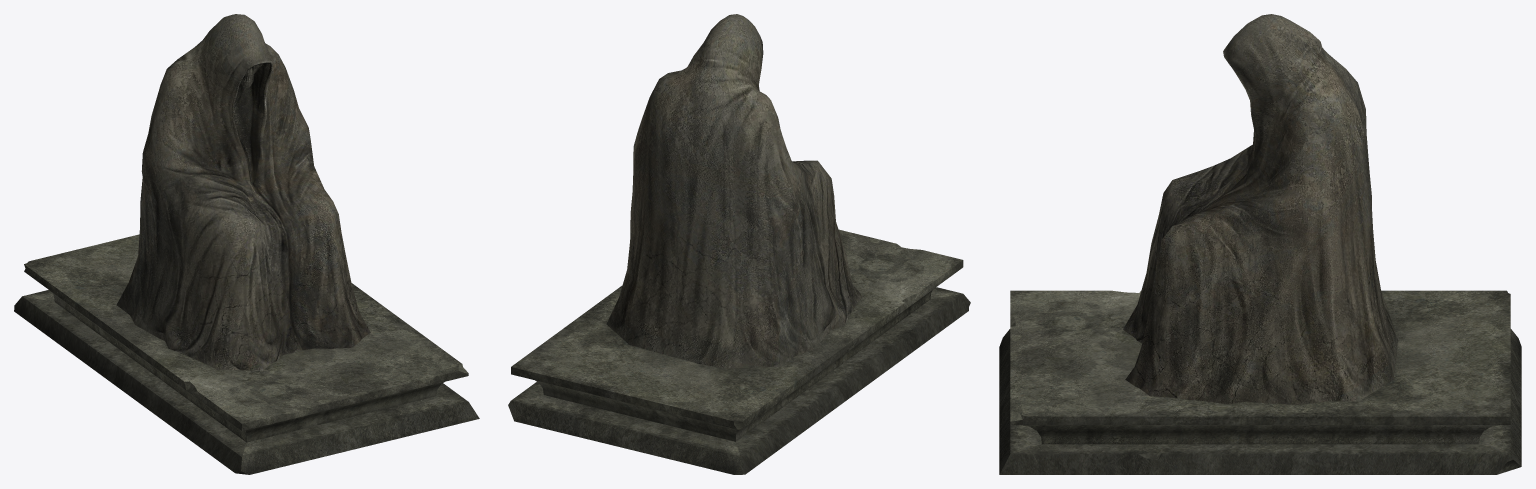
The model's file is Graveyard_Statue_01.DAE.
3 views of the same model, side by side, from view 1: azimuth 30°, elevation 25°; view 2: azimuth 150°, elevation 25°; view 3: azimuth 270°, elevation 25° (orthographic). The views are drawn at different scales.
Visible parts, largest first — view 1: Statue_01, Statue_Tomb; view 2: Statue_01, Statue_Tomb; view 3: Statue_01, Statue_Tomb.
Boxes of the visible parts, x1,y1,x2,y2 form: Statue_01: [116, 14, 370, 370]; Statue_Tomb: [14, 234, 479, 474]; Statue_01: [606, 14, 862, 368]; Statue_Tomb: [508, 229, 970, 474]; Statue_01: [1123, 14, 1397, 404]; Statue_Tomb: [999, 290, 1521, 474].
Size of the model in its own units: 1.84 by 3.05 by 2.53.
